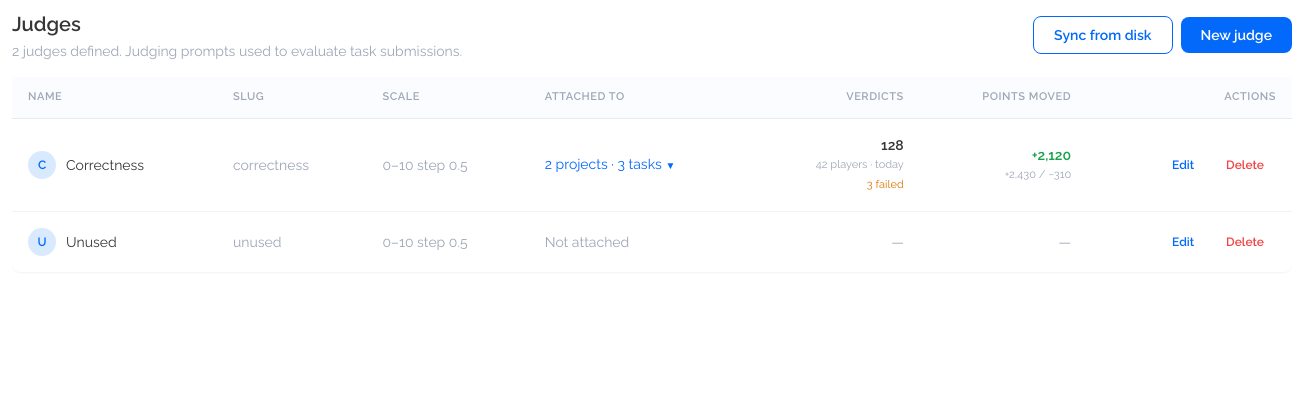
Scenario: Judges settings › names every project and task once the row is opened
Click the button with test id "attachments-toggle-correctness": (610, 164) x1=545 y1=154 x2=675 y2=176
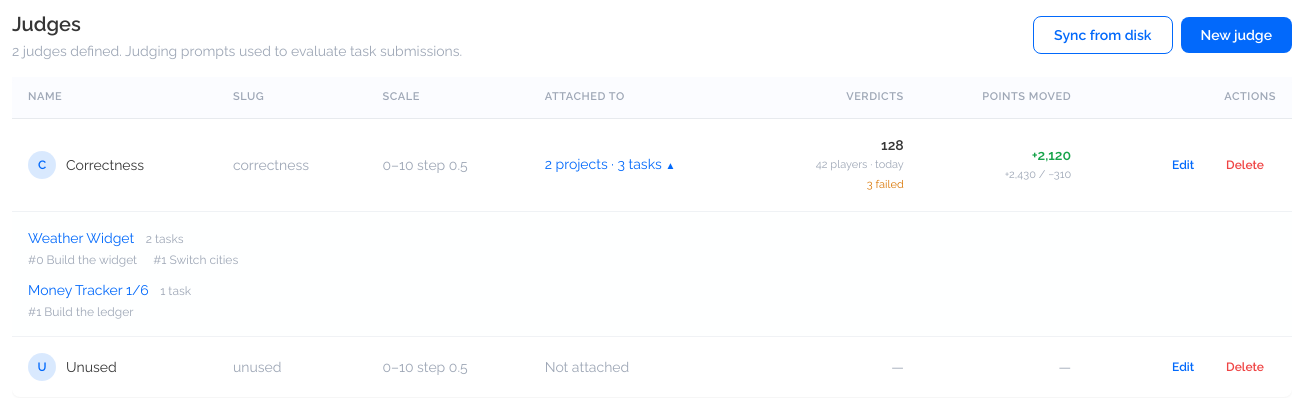
Expected: the link "Weather Widget" is shown, x1=28 y1=230 x2=134 y2=246
Expected: the list item "#0 Build the widget" is shown, x1=28 y1=252 x2=137 y2=268
Expected: the list item "#1 Switch cities" is shown, x1=153 y1=252 x2=238 y2=268
